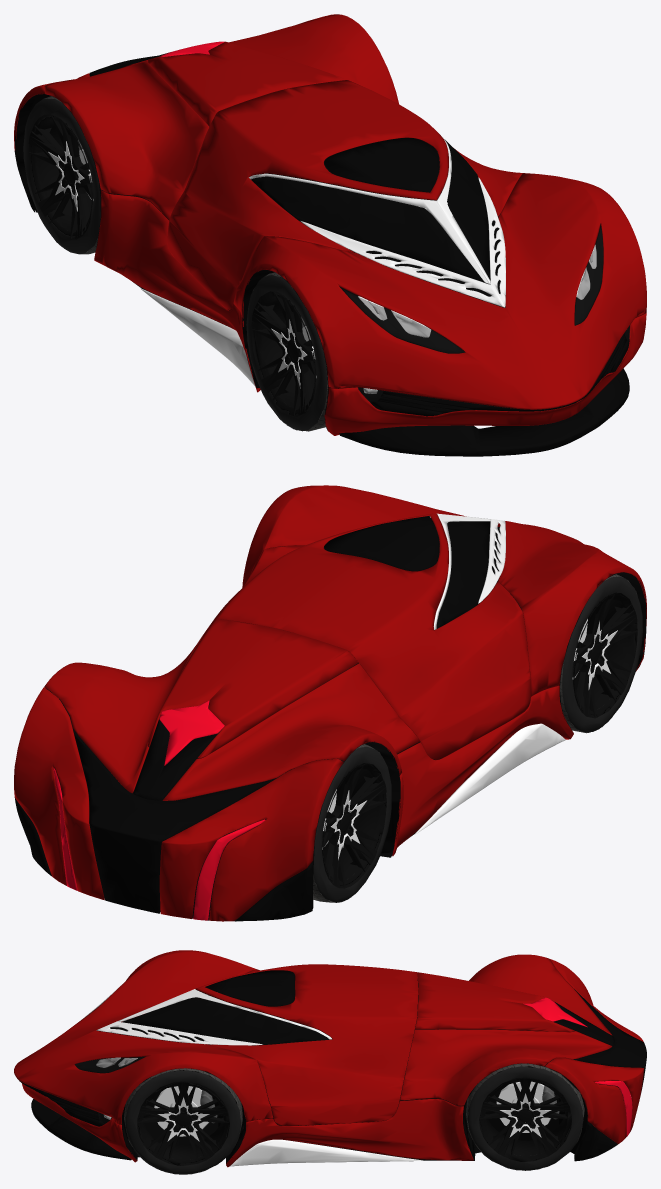
File: c039_lite.glb
3 views of the same model, one above another, from view 1: azimuth 30°, elevation 25°; view 2: azimuth 150°, elevation 25°; view 3: azimuth 270°, elevation 25° (orthographic). The views are drawn at different scales.
Parts seen in each view (by area): view 1: Object_15, Object_10, Object_13, Object_22, Object_17, Object_9, Object_11, Object_23, Object_7, Object_2, Object_14, Object_24 (+4 smaller); view 2: Object_10, Object_12, Object_13, Object_15, Object_18, Object_11, Object_22, Object_23, Object_9, Object_2, Object_24, Object_8 (+5 smaller); view 3: Object_10, Object_15, Object_13, Object_9, Object_22, Object_2, Object_11, Object_23, Object_12, Object_7, Object_24, Object_19 (+10 smaller).
Boxes of the visible parts, x1,y1,x2,y2 form: Object_15: [233, 173, 646, 409]; Object_10: [167, 80, 522, 309]; Object_13: [44, 14, 398, 219]; Object_22: [251, 137, 490, 281]; Object_17: [14, 150, 629, 456]; Object_9: [94, 190, 260, 392]; Object_11: [147, 41, 346, 125]; Object_23: [28, 116, 316, 415]; Object_7: [15, 93, 629, 430]; Object_2: [23, 99, 327, 431]; Object_14: [324, 313, 646, 435]; Object_24: [28, 114, 316, 416]; Object_10: [205, 513, 530, 759]; Object_12: [14, 687, 343, 921]; Object_13: [44, 630, 419, 800]; Object_15: [242, 485, 646, 696]; Object_18: [73, 720, 274, 913]; Object_11: [147, 619, 358, 758]; Object_22: [324, 516, 490, 628]; Object_23: [321, 594, 637, 887]; Object_9: [392, 685, 573, 856]; Object_2: [282, 576, 642, 902]; Object_24: [322, 592, 637, 888]; Object_8: [53, 700, 265, 920]; Object_10: [195, 964, 418, 1126]; Object_15: [14, 950, 273, 1124]; Object_13: [400, 954, 612, 1105]; Object_9: [226, 1099, 473, 1167]; Object_22: [122, 970, 328, 1044]; Object_2: [125, 1066, 582, 1174]; Object_11: [415, 972, 574, 1031]; Object_23: [138, 1078, 570, 1162]; Object_12: [545, 959, 643, 1143]; Object_7: [48, 973, 627, 1163]; Object_24: [137, 1077, 571, 1165]; Object_19: [109, 989, 423, 1166].
Bounding box in the file's own units: 2 × 1.1 × 4.64.
Materials: 13 (1 with a texture image).
